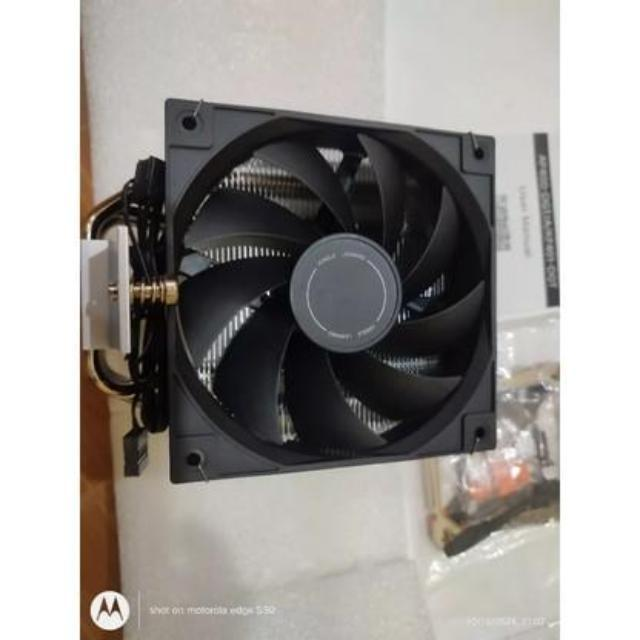CPU_Fan: (74, 98, 500, 496)
